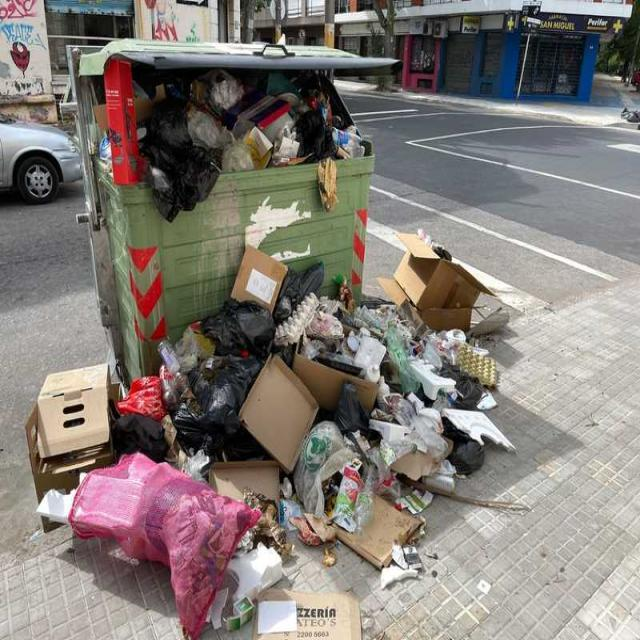garbage: (187, 248, 406, 637), (99, 61, 378, 206), (34, 368, 184, 580), (408, 240, 502, 514)
